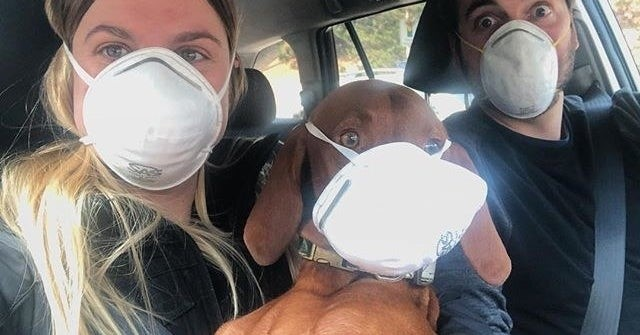face_with_mask: (61, 2, 236, 203), (448, 0, 581, 134)
